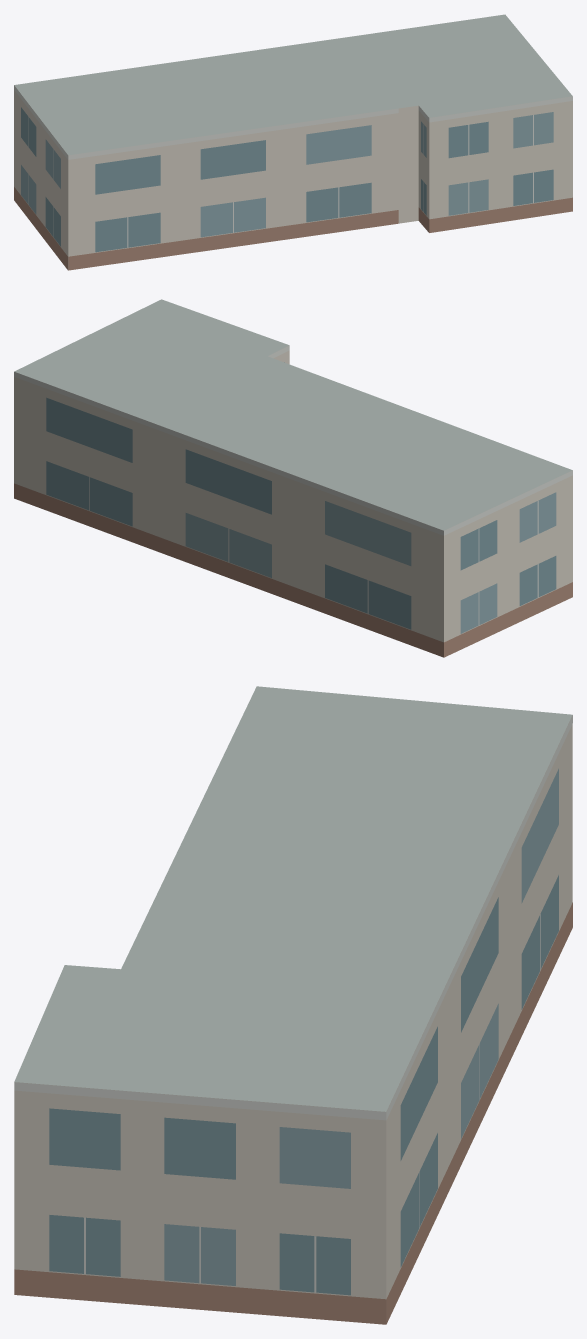
File: survey-upis-32562869.glb
3 renders of one model, top to bottom at view 1: azimuth 30°, elevation 25°; view 2: azimuth 150°, elevation 25°; view 3: azimuth 270°, elevation 25°, orthographic. The views are drawn at different scales.
Visible parts, largest first — view 1: survey-upis-32562869.tmp; view 2: survey-upis-32562869.tmp; view 3: survey-upis-32562869.tmp.
Boxes of the visible parts, left/top/right/bottom form: survey-upis-32562869.tmp: left=14, top=14, right=572, bottom=270; survey-upis-32562869.tmp: left=14, top=299, right=572, bottom=657; survey-upis-32562869.tmp: left=14, top=686, right=572, bottom=1324.
Size of the model in its own units: 26.18 by 6.1 by 14.53.
